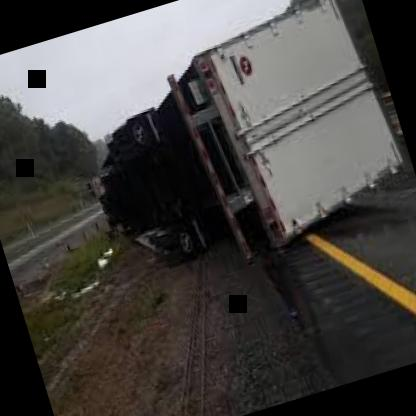accident: (50, 0, 404, 301)
